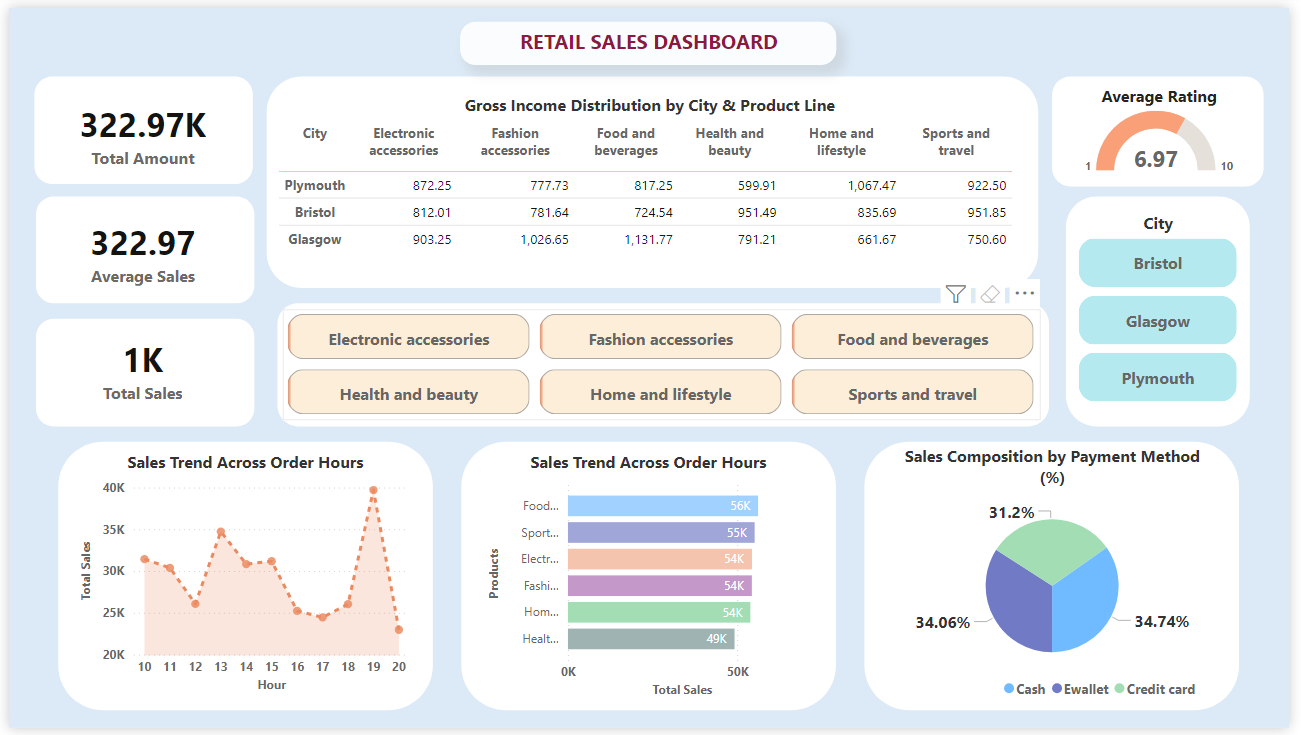

This screenshot's page, from the dashboard's own definition file:
{"tool":"powerbi","page":{"name":"GROSS_SALES","canvas":[1280,720],"ordinal":0},"visuals":[{"type":"cardVisual","fields":{"Data":["Sum(superSales.Total_price)"]},"box":[32.7,75.9,203.2,87.3],"z":0},{"type":"cardVisual","fields":{"Data":["Count(superSales.Invoice_ID)"]},"box":[56.7,311.7,155,95],"z":1000},{"type":"cardVisual","fields":{"Data":["Avg(superSales.Total_price)"]},"box":[32.7,194.1,203.2,91.8],"z":2000},{"type":"gauge","title":"Average Rating","fields":{"Y":["Avg(superSales.Rating)"],"MinValue":["superSales.MinRating"],"MaxValue":["superSales.MaxRating"]},"box":[1052.6,75.8,195.3,96.3],"z":3000},{"type":"lineChart","title":"Sales Trend Across Order Hours","fields":{"Y":["Sum(superSales.Total_price)"],"Category":["superSales.Order_Hour"]},"box":[67.5,452.5,337.5,237.5],"z":4000},{"type":"barChart","title":"Sales Trend Across Order Hours","fields":{"Y":["Sum(superSales.Total_price)"],"Category":["superSales.Product_line"]},"box":[475,452.5,330,242.5],"z":5000},{"type":"pieChart","title":"Sales Composition by Payment Method (%)","fields":{"Y":["Sum(superSales.Total_price)"],"Category":["superSales.Payment_method"]},"box":[890,452.5,306.2,237.5],"z":6000},{"type":"pivotTable","title":"Gross Income Distribution by City & Product Line","fields":{"Rows":["superSales.City"],"Values":["Sum(superSales.gross_income)"],"Columns":["superSales.Product_line"]},"box":[265,85,751.7,176.7],"z":7000},{"type":"advancedSlicerVisual","title":"Products","fields":{"Values":["superSales.Product_line"]},"box":[274.3,301.4,757.1,111.4],"z":8000},{"type":"advancedSlicerVisual","fields":{"Values":["superSales.City"]},"box":[1065,203.3,168.3,196.7],"z":9000},{"type":"textbox","title":"RETAIL SALES DASHBOARD","box":[451.5,13.5,375.8,43.3],"z":10000}]}

Visuals, with their boxes in screenshot pixels (x1, y1, x2, y2), scaled from the page's 1280x720 canvas onto the 1301x735 screenshot:
cardVisual - Sum(superSales.Total_price): 33:77:240:167
cardVisual - Count(superSales.Invoice_ID): 58:318:215:415
cardVisual - Avg(superSales.Total_price): 33:198:240:292
"Average Rating" gauge: 1070:77:1268:176
"Sales Trend Across Order Hours" lineChart: 69:462:412:704
"Sales Trend Across Order Hours" barChart: 483:462:818:709
"Sales Composition by Payment Method (%)" pieChart: 905:462:1216:704
"Gross Income Distribution by City & Product Line" pivotTable: 269:87:1033:267
"Products" advancedSlicerVisual: 279:308:1048:421
advancedSlicerVisual - superSales.City: 1082:208:1254:408
"RETAIL SALES DASHBOARD" textbox: 459:14:841:58
